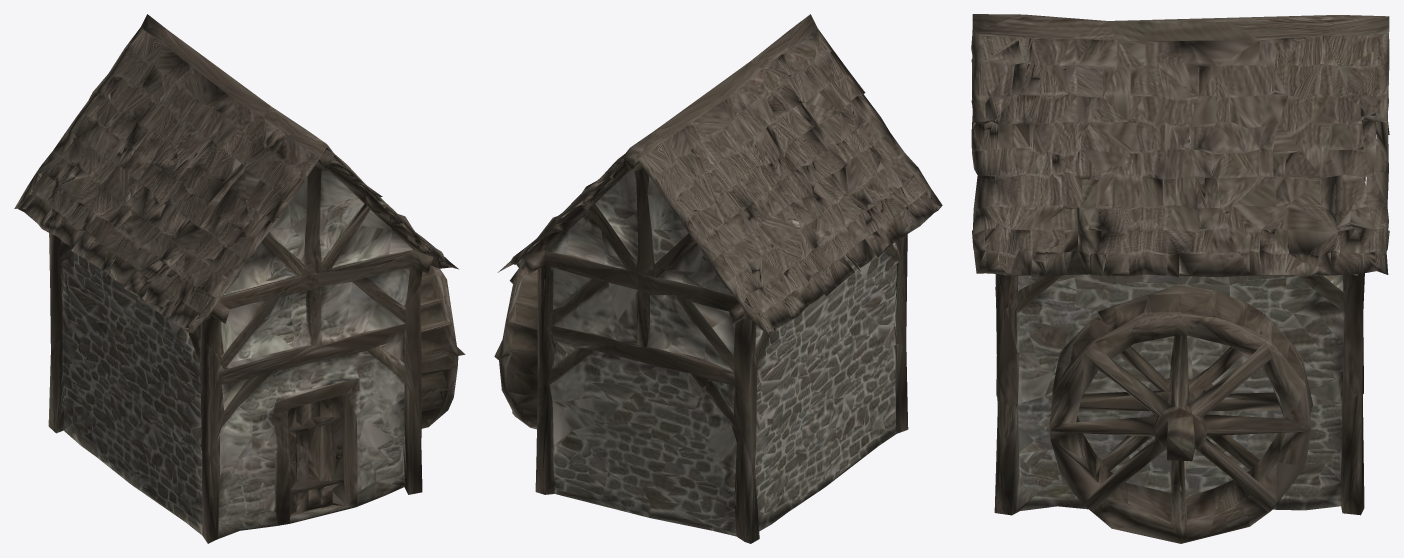
The model's file is watermill.glb.
3 renders of one model, left to right at view 1: azimuth 30°, elevation 25°; view 2: azimuth 150°, elevation 25°; view 3: azimuth 270°, elevation 25°, orthographic. The views are drawn at different scales.
Parts seen in each view (by area): view 1: Mesh_0; view 2: Mesh_0; view 3: Mesh_0.
Part boxes in pixels (left/top/right/bottom): Mesh_0: left=14, top=14, right=465, bottom=543; Mesh_0: left=494, top=14, right=942, bottom=543; Mesh_0: left=971, top=14, right=1389, bottom=543.
Size of the model in its own units: 4.63 by 5 by 4.3.
1 material, 1 textured.
